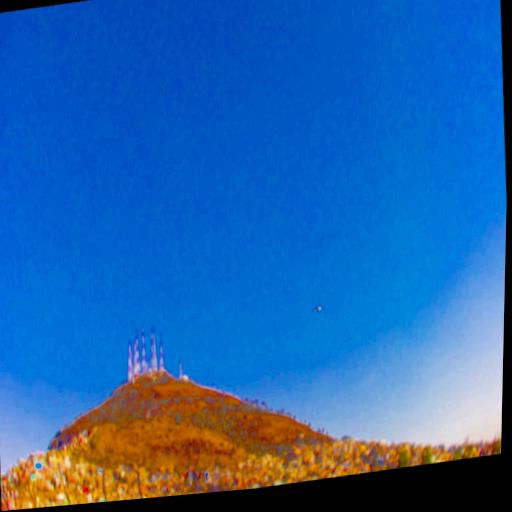drones: (312, 303, 324, 316)
